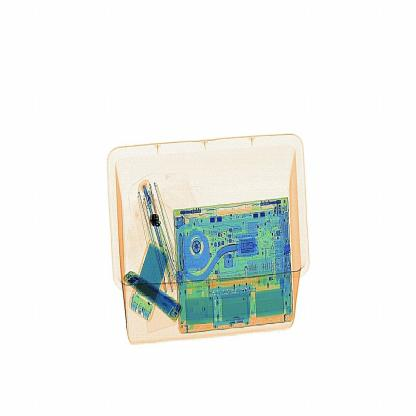scissors: (142, 208, 165, 235)
